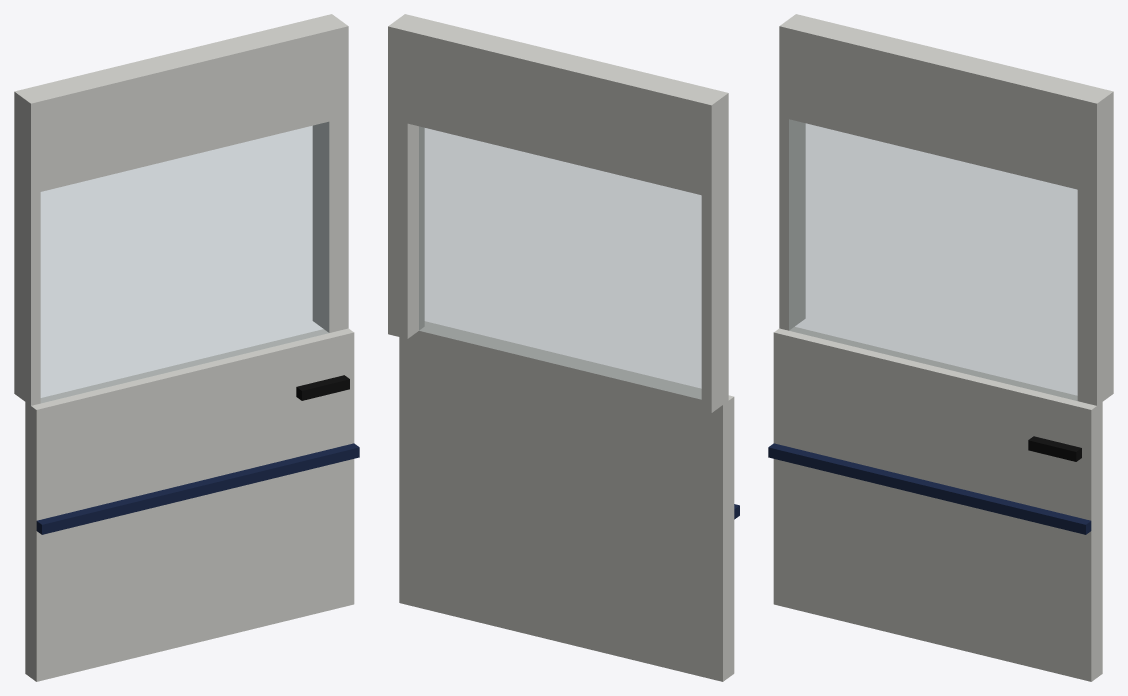
The model's file is riot_van_side_door.glb.
3 views of the same model, side by side, from view 1: azimuth 30°, elevation 25°; view 2: azimuth 150°, elevation 25°; view 3: azimuth 330°, elevation 25° (orthographic).
Parts seen in each view (by area): view 1: body:compound; view 2: body:compound; view 3: body:compound.
Boxes of the visible parts, left/top/right/bottom form: body:compound: left=14, top=14, right=359, bottom=681; body:compound: left=388, top=14, right=739, bottom=681; body:compound: left=768, top=14, right=1113, bottom=681.
Size of the model in its own units: 1.03 by 1.78 by 0.1562.
